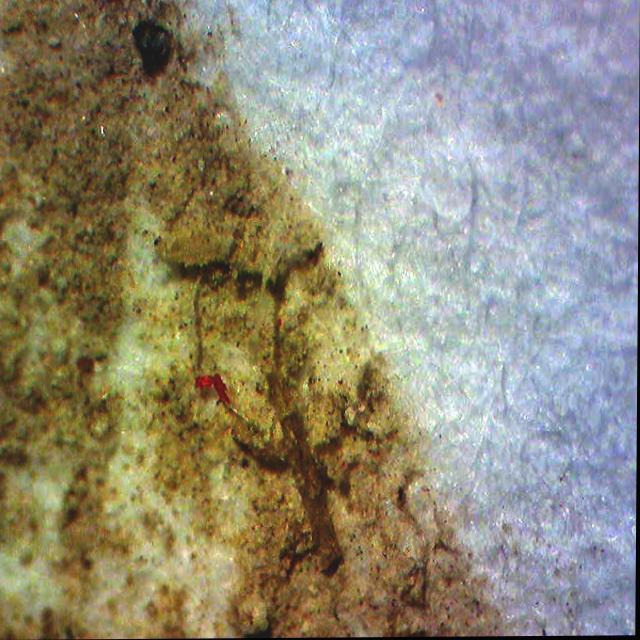microplastic: (191, 368, 233, 415)
